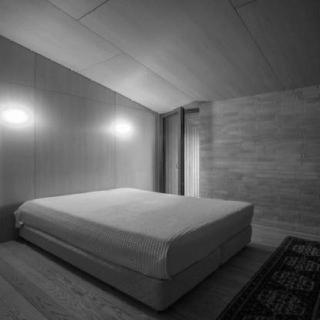other: (2, 99, 42, 135), (109, 120, 140, 142)
